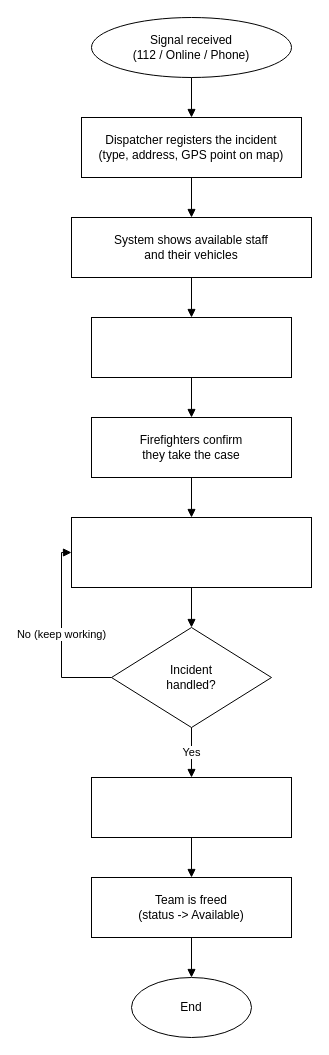
Image size: 329x1055. Some labels were removed from this diagram. Here are the shapes that lost their labels. From the top down, the box of each, then its label:
(90, 316, 292, 378): Dispatcher assigns the team
(70, 516, 312, 588): Coordination: tasks, resource requests, incident chat
(90, 776, 292, 838): Dispatcher marks "Closed"
